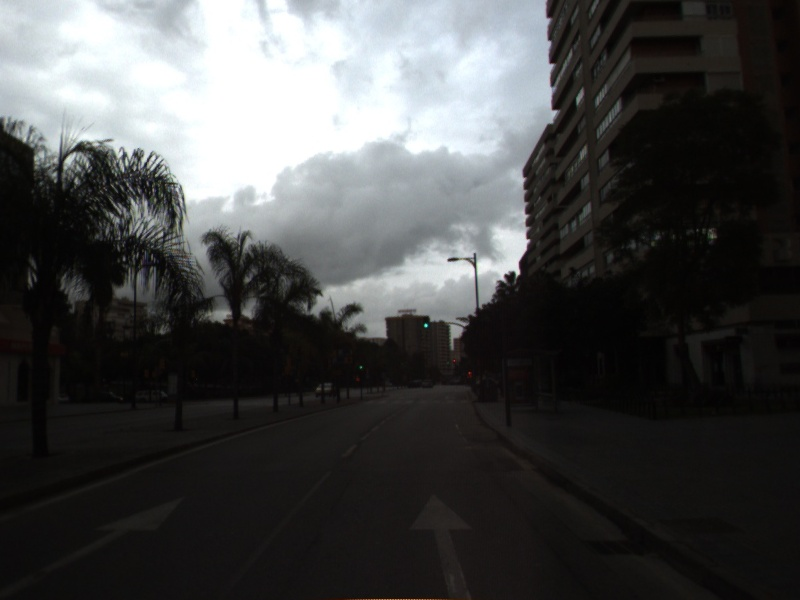STRAIGHT: (1, 494, 188, 600), (406, 492, 476, 600)
